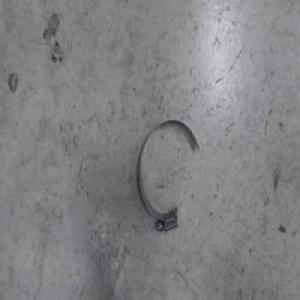AdjustableClamp: (137, 119, 199, 234)
